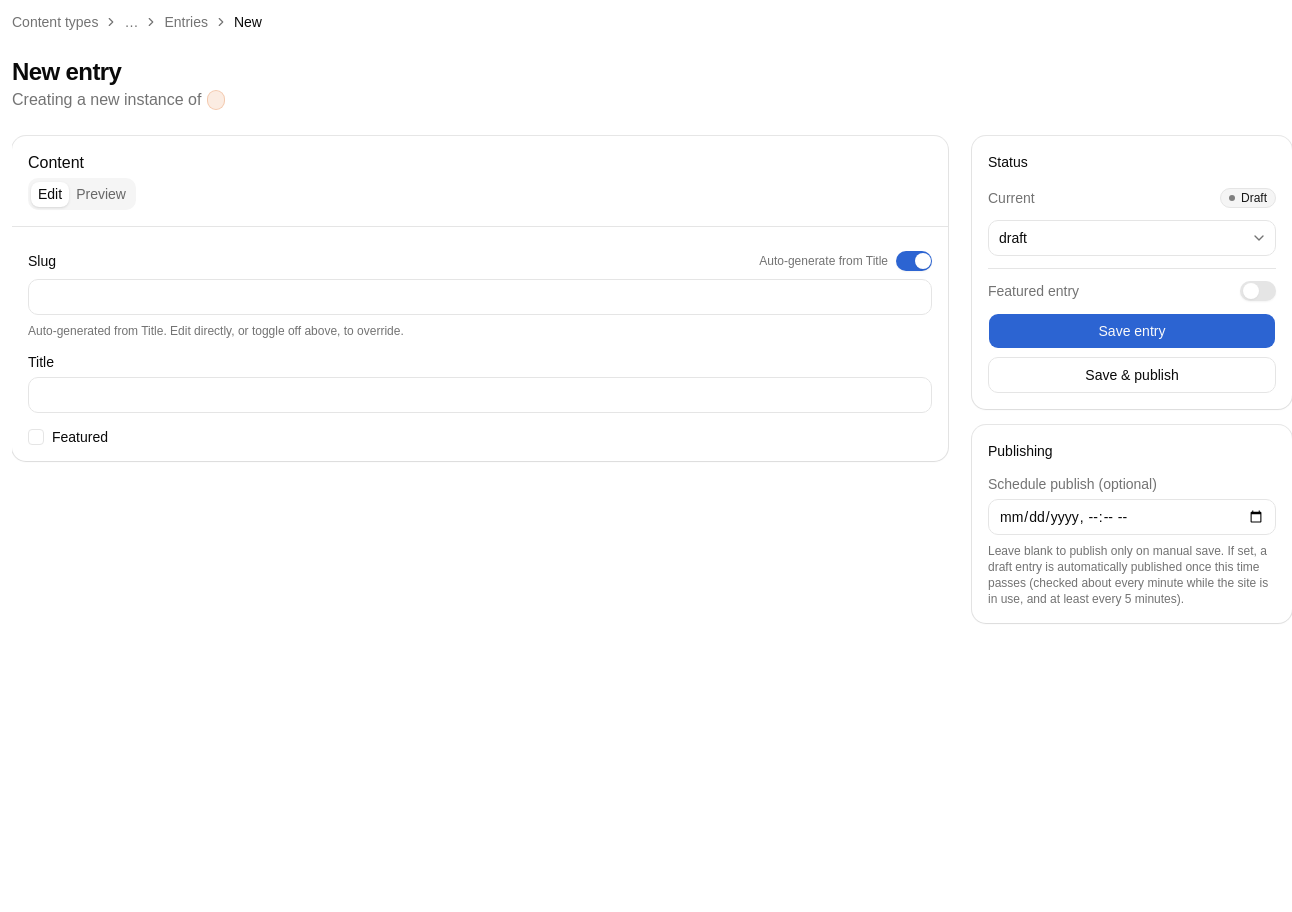
Scenario: EntryEditorPage › auto-generates the slug from the title field until the slug is edited directly
Type "My Great Post!" into the field labelled "Title" at (480, 395), box x1=28 y1=377 x2=932 y2=413
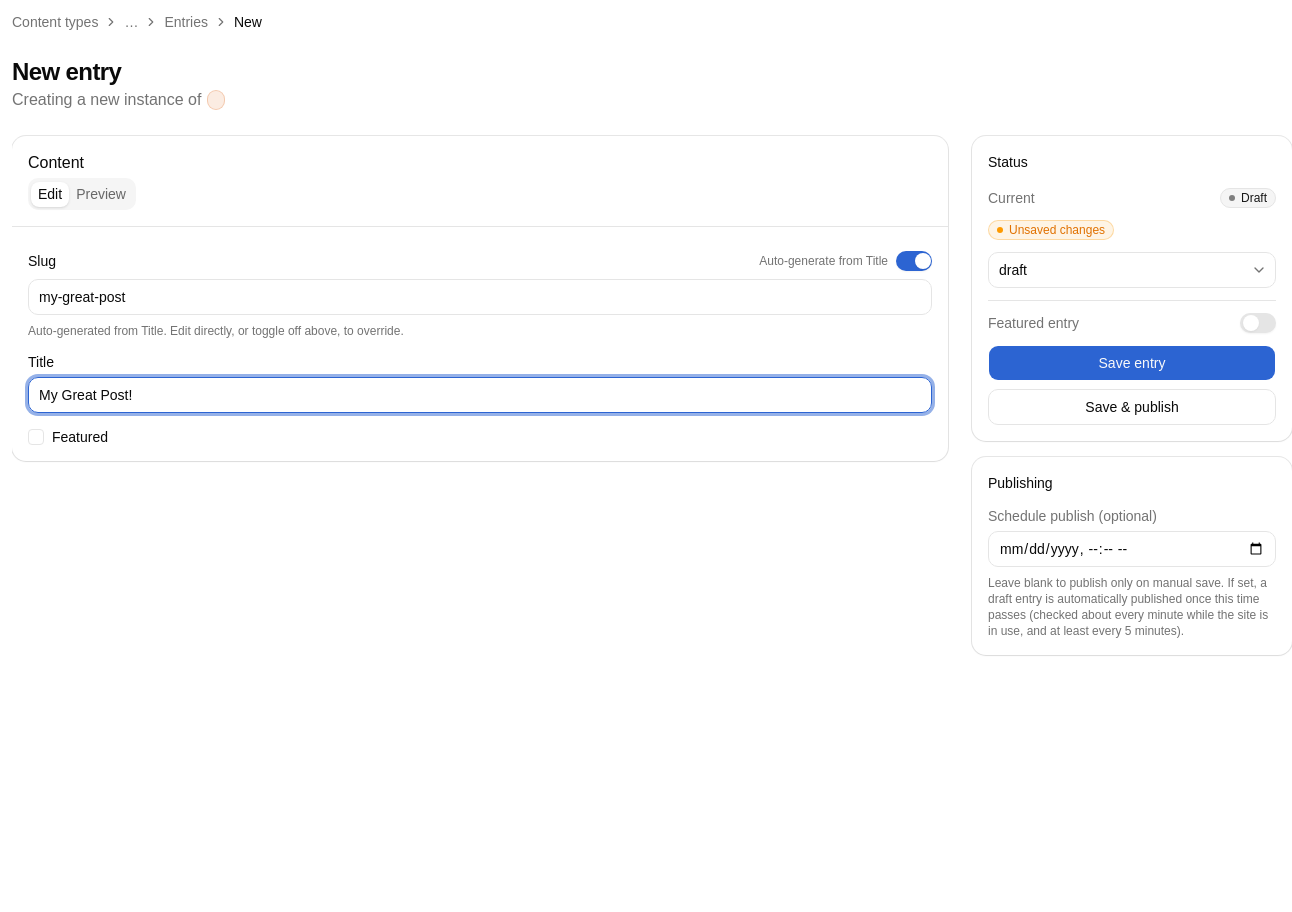
Check: the text "Auto-generated from Title" is shown, box x1=28 y1=324 x2=404 y2=338
Check: the field labelled "Slug" holds "my-great-post"
Note: Editing the slug directly stops it from tracking the title any further.
Type "-custom" into the field labelled "Slug" at (480, 297), box x1=28 y1=279 x2=932 y2=315
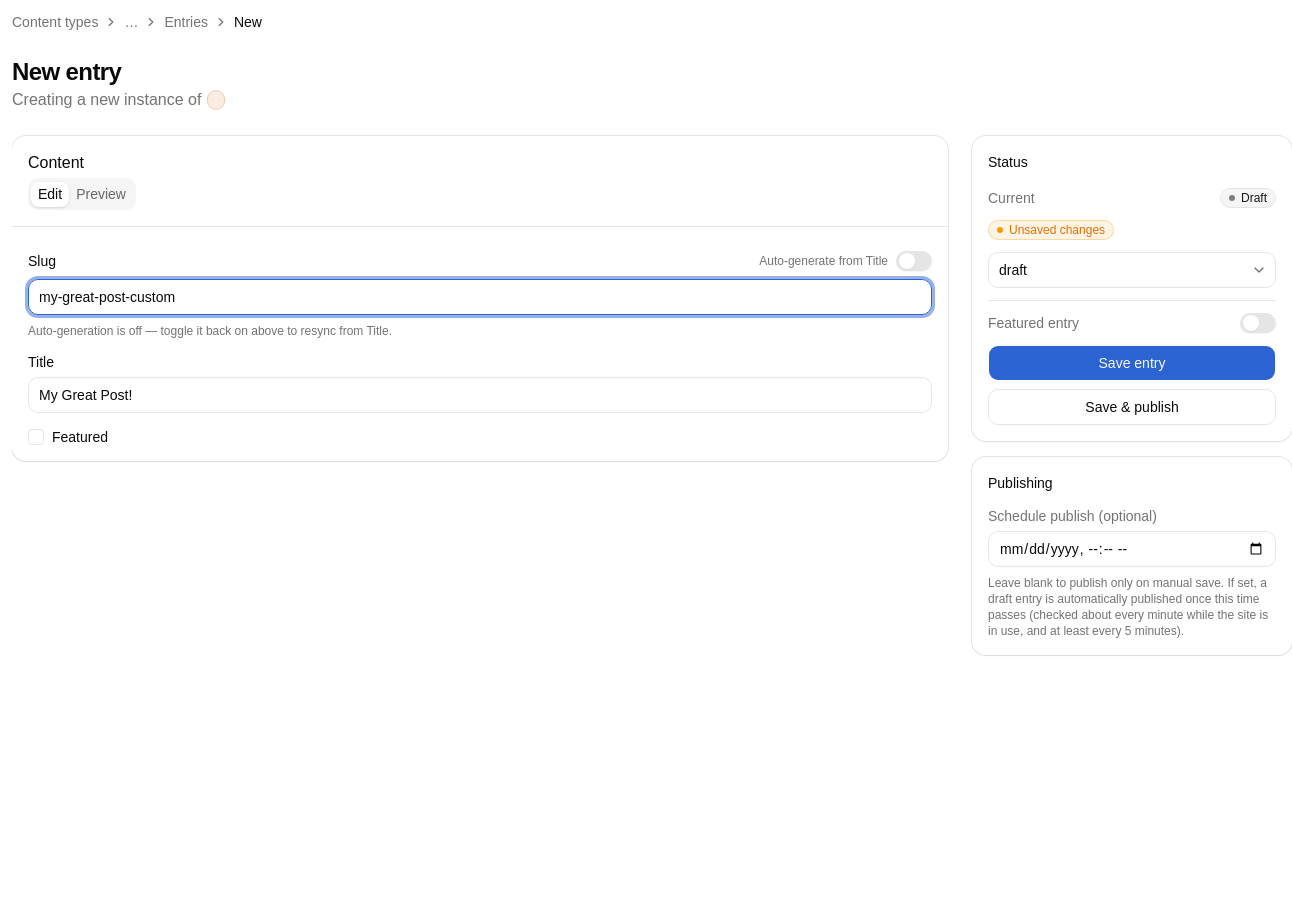
Check: the field labelled "Slug" holds "my-great-post-custom", box x1=28 y1=279 x2=932 y2=315
Type " Extra" into the field labelled "Title" at (480, 395), box x1=28 y1=377 x2=932 y2=413
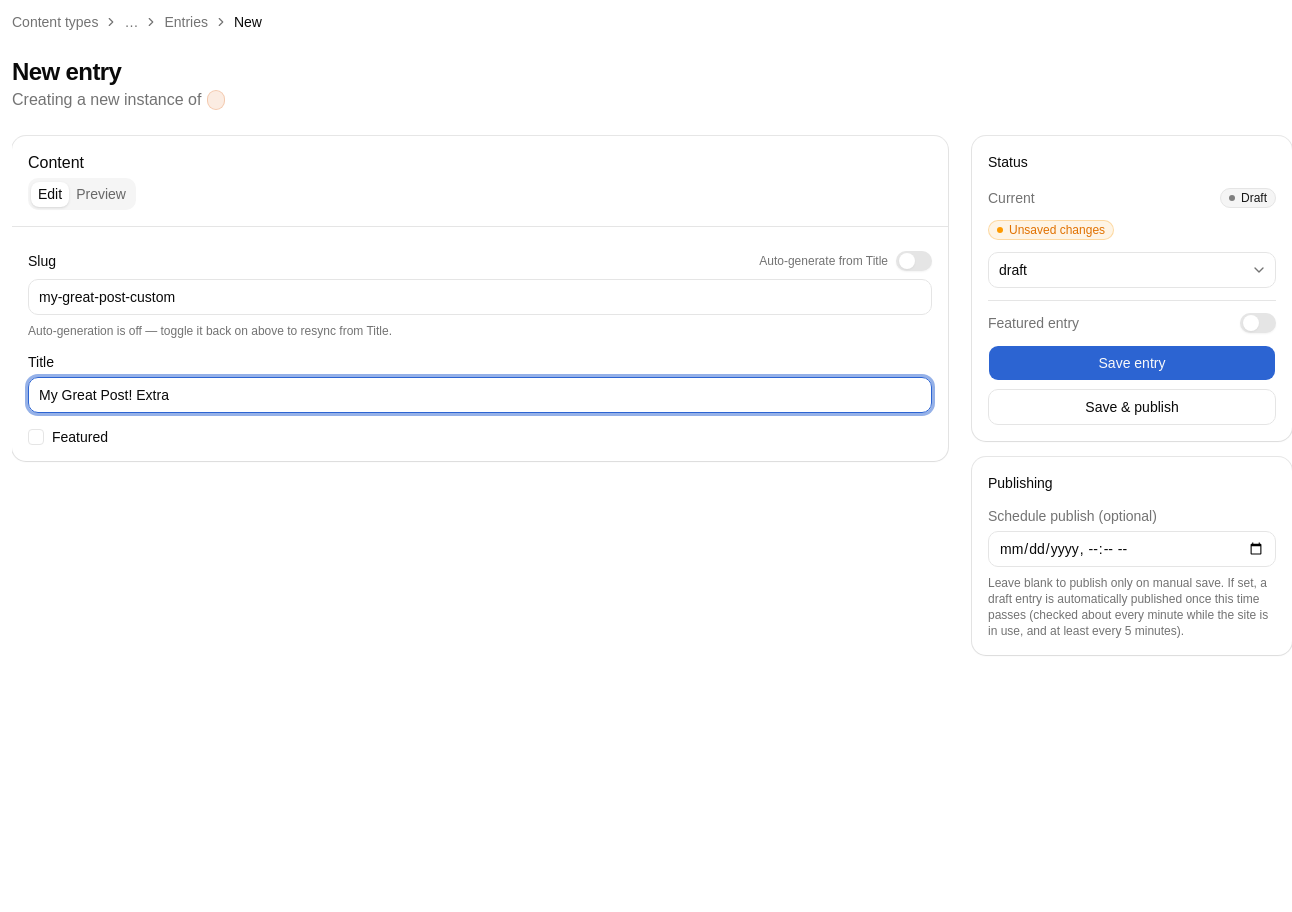
Check: the field labelled "Slug" holds "my-great-post-custom", box x1=28 y1=279 x2=932 y2=315
Check: the text "Auto-generation is off" is shown, box x1=28 y1=324 x2=366 y2=338
Click the switch named "Auto-generate from Title" in the row of "Auto-generate from" at (914, 261), box x1=896 y1=251 x2=932 y2=271
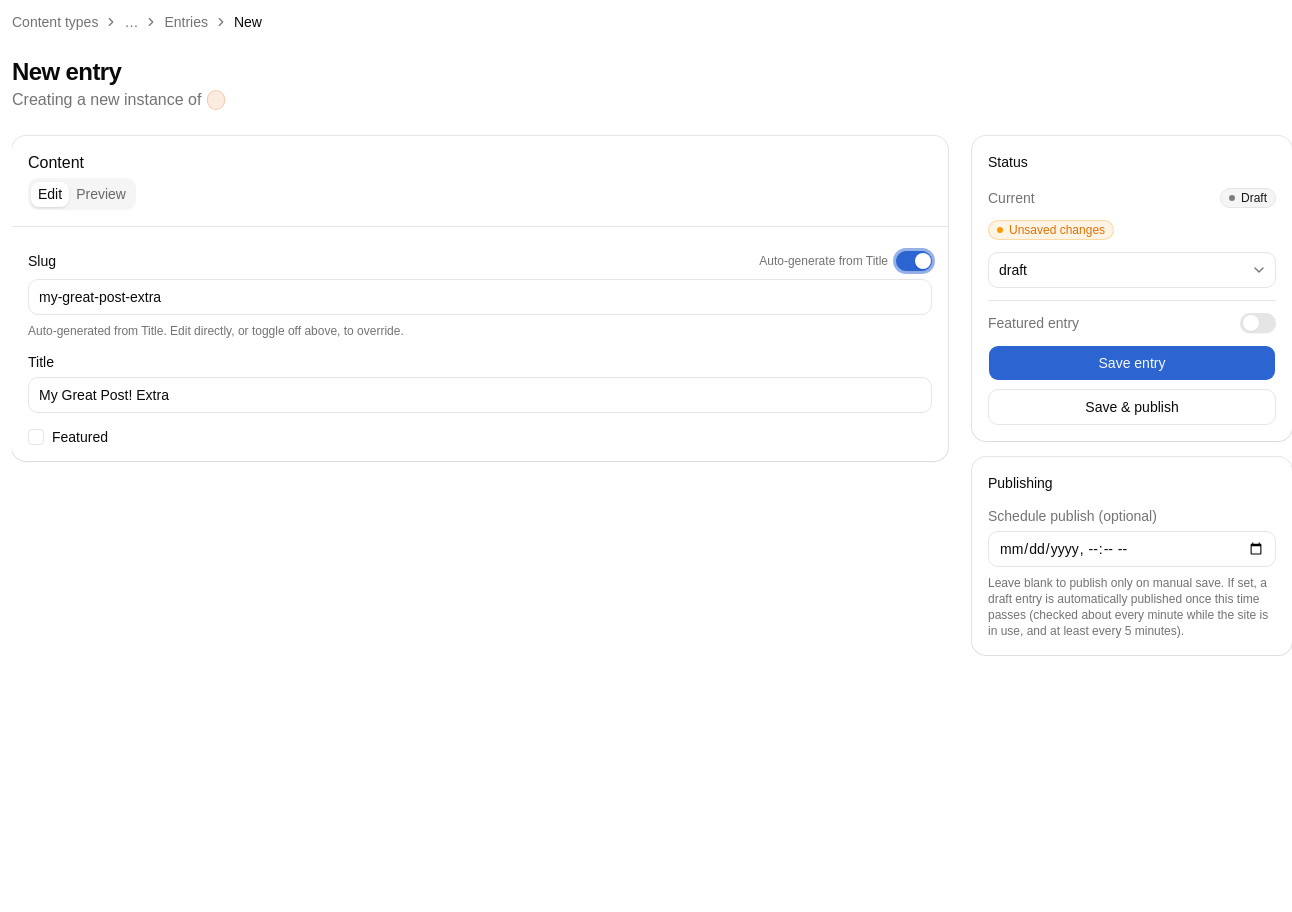
Check: the field labelled "Slug" holds "my-great-post-extra", box x1=28 y1=279 x2=932 y2=315
Type " More" into the field labelled "Title" at (480, 395), box x1=28 y1=377 x2=932 y2=413
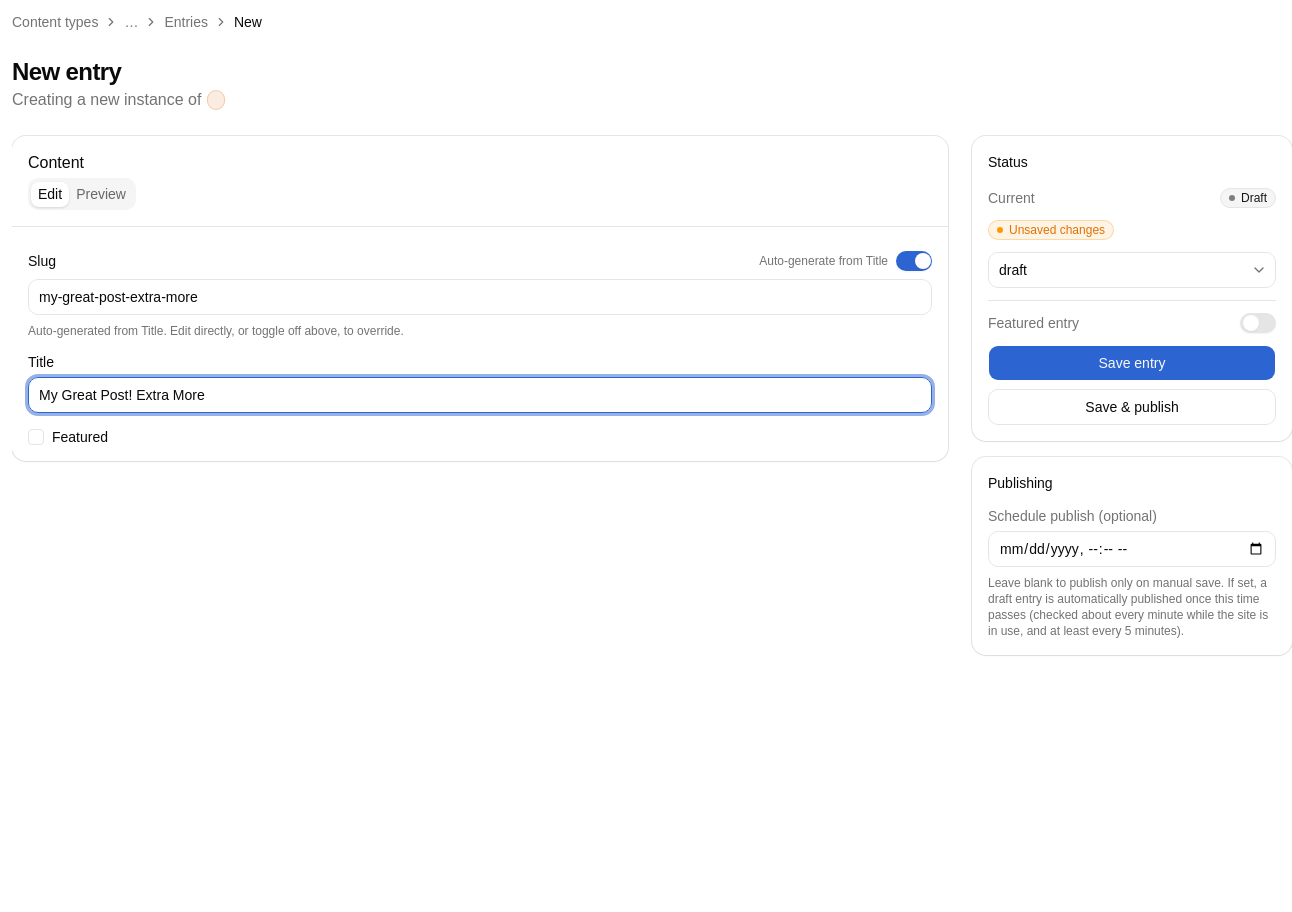
Check: the field labelled "Slug" holds "my-great-post-extra-more", box x1=28 y1=279 x2=932 y2=315
